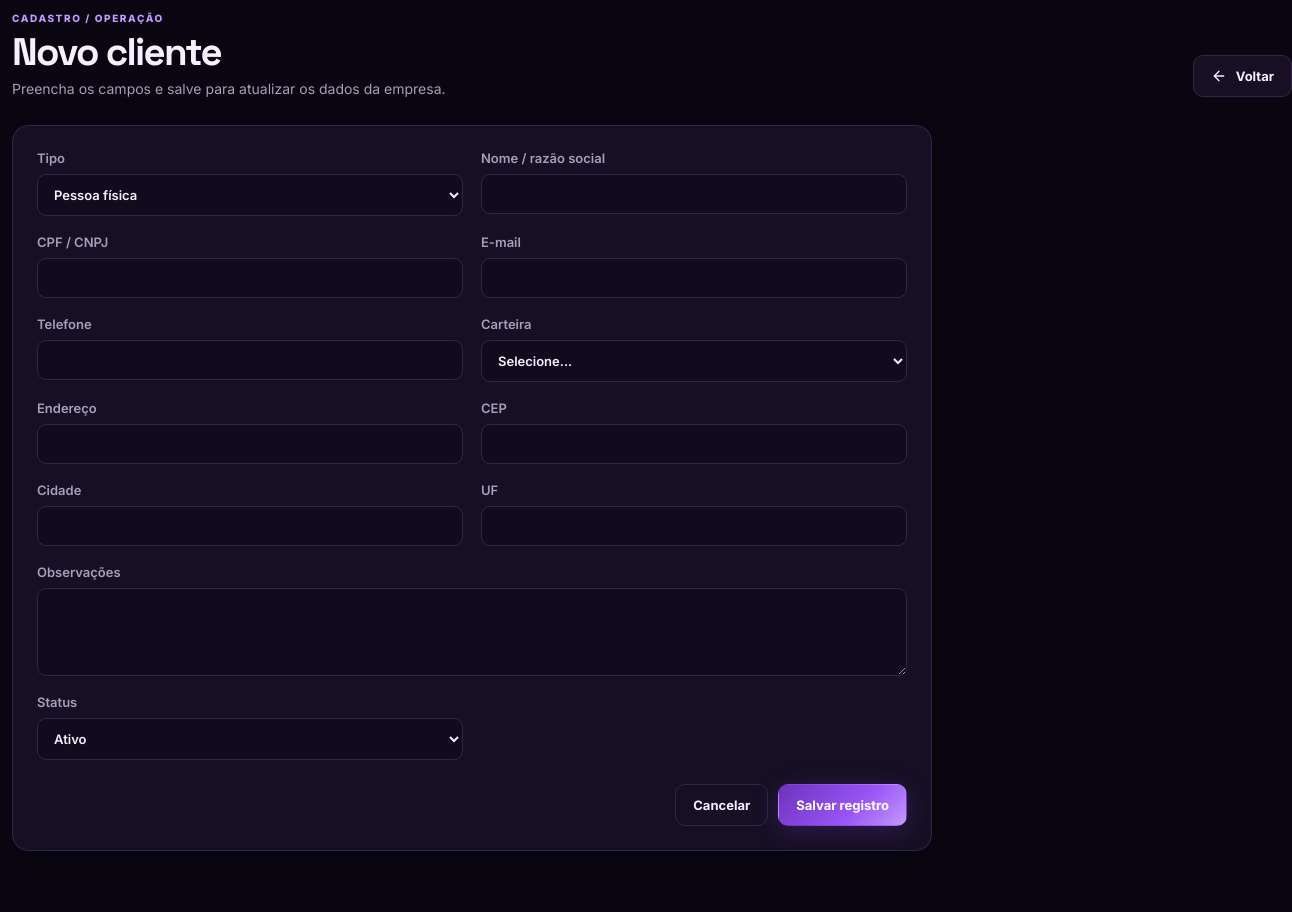
RecordPage › submits a customer through the API and returns to the list
This screenshot has width=1292, height=912.
Type "Maria Teste" into the field labelled "Nome / razão social". click: (694, 194)
box: [481, 174, 907, 214]
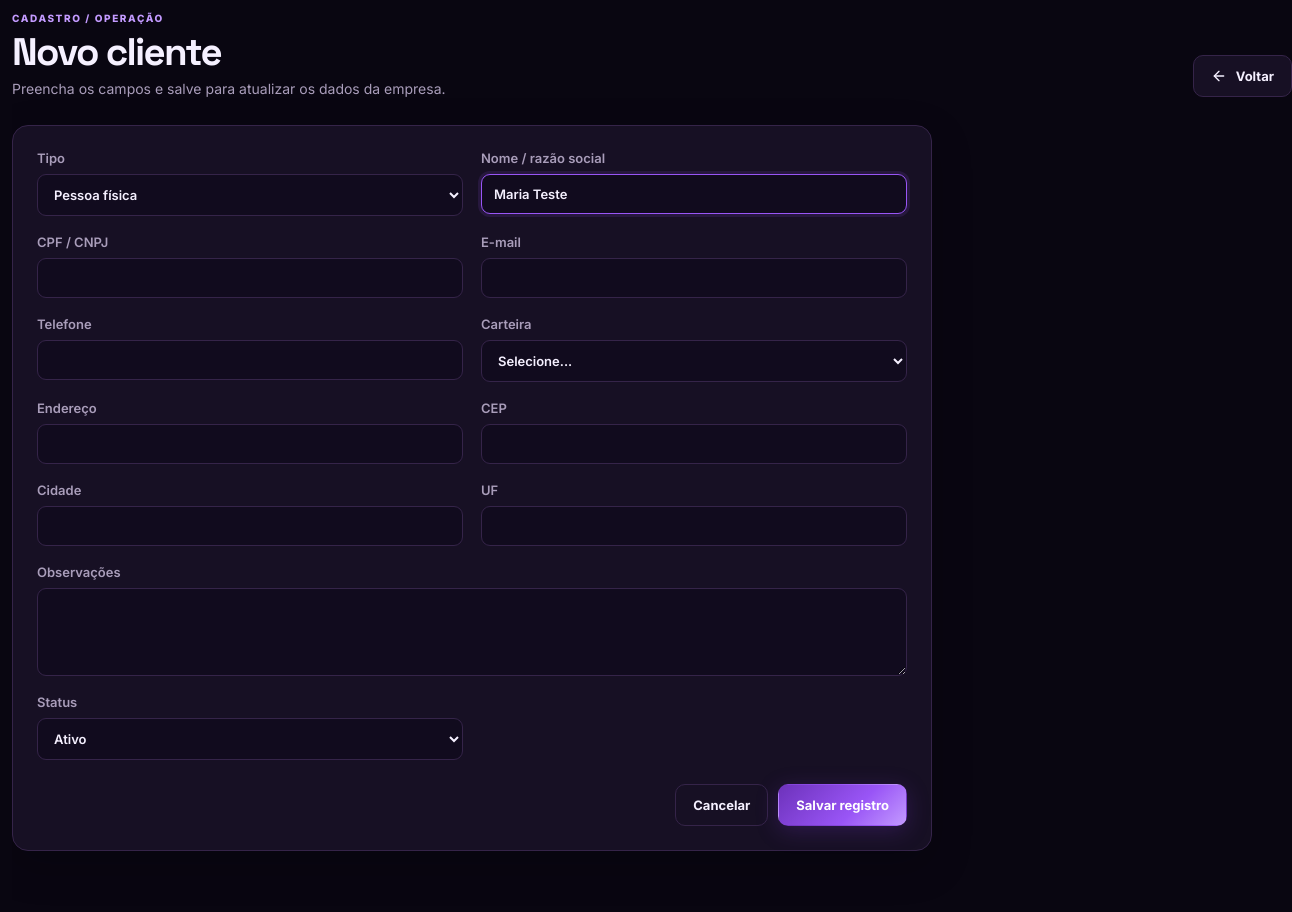
Type "12345678901" into the field labelled "CPF / CNPJ". click: (250, 278)
box: [37, 258, 463, 298]
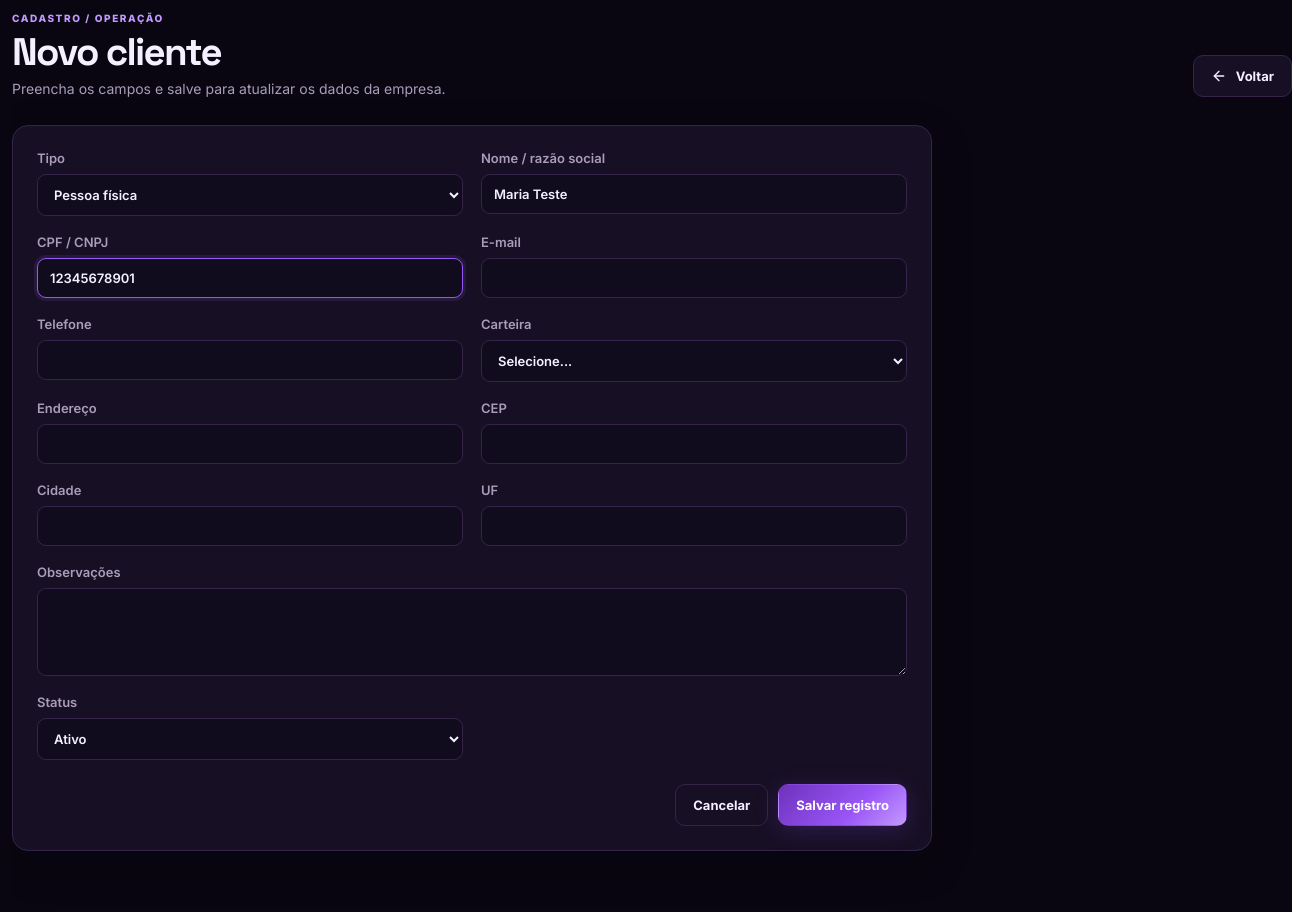
Click the button "Salvar registro". click: (843, 805)
box: [778, 784, 907, 826]
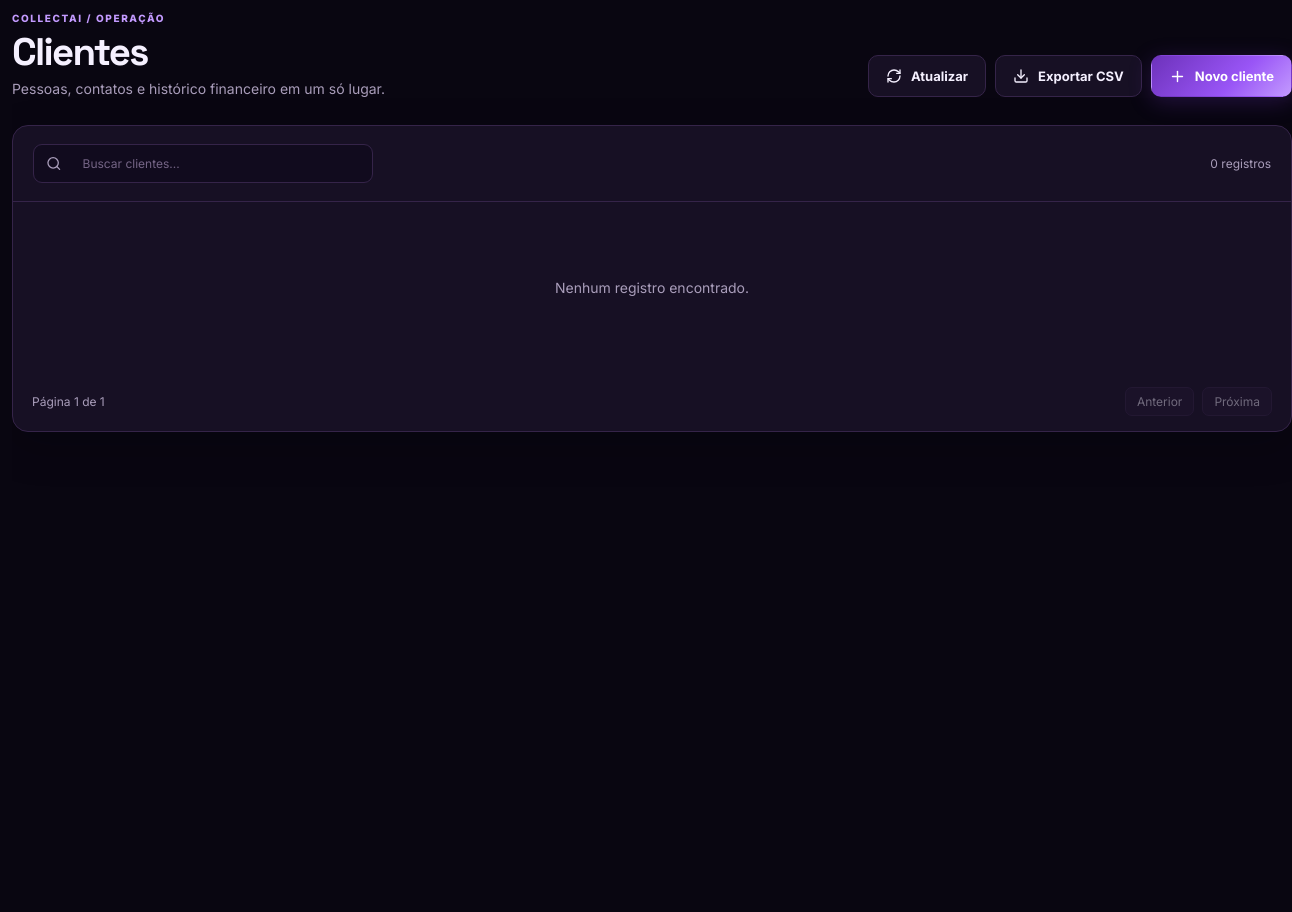
Result: the heading "Clientes" is shown at [12, 27, 148, 76]
